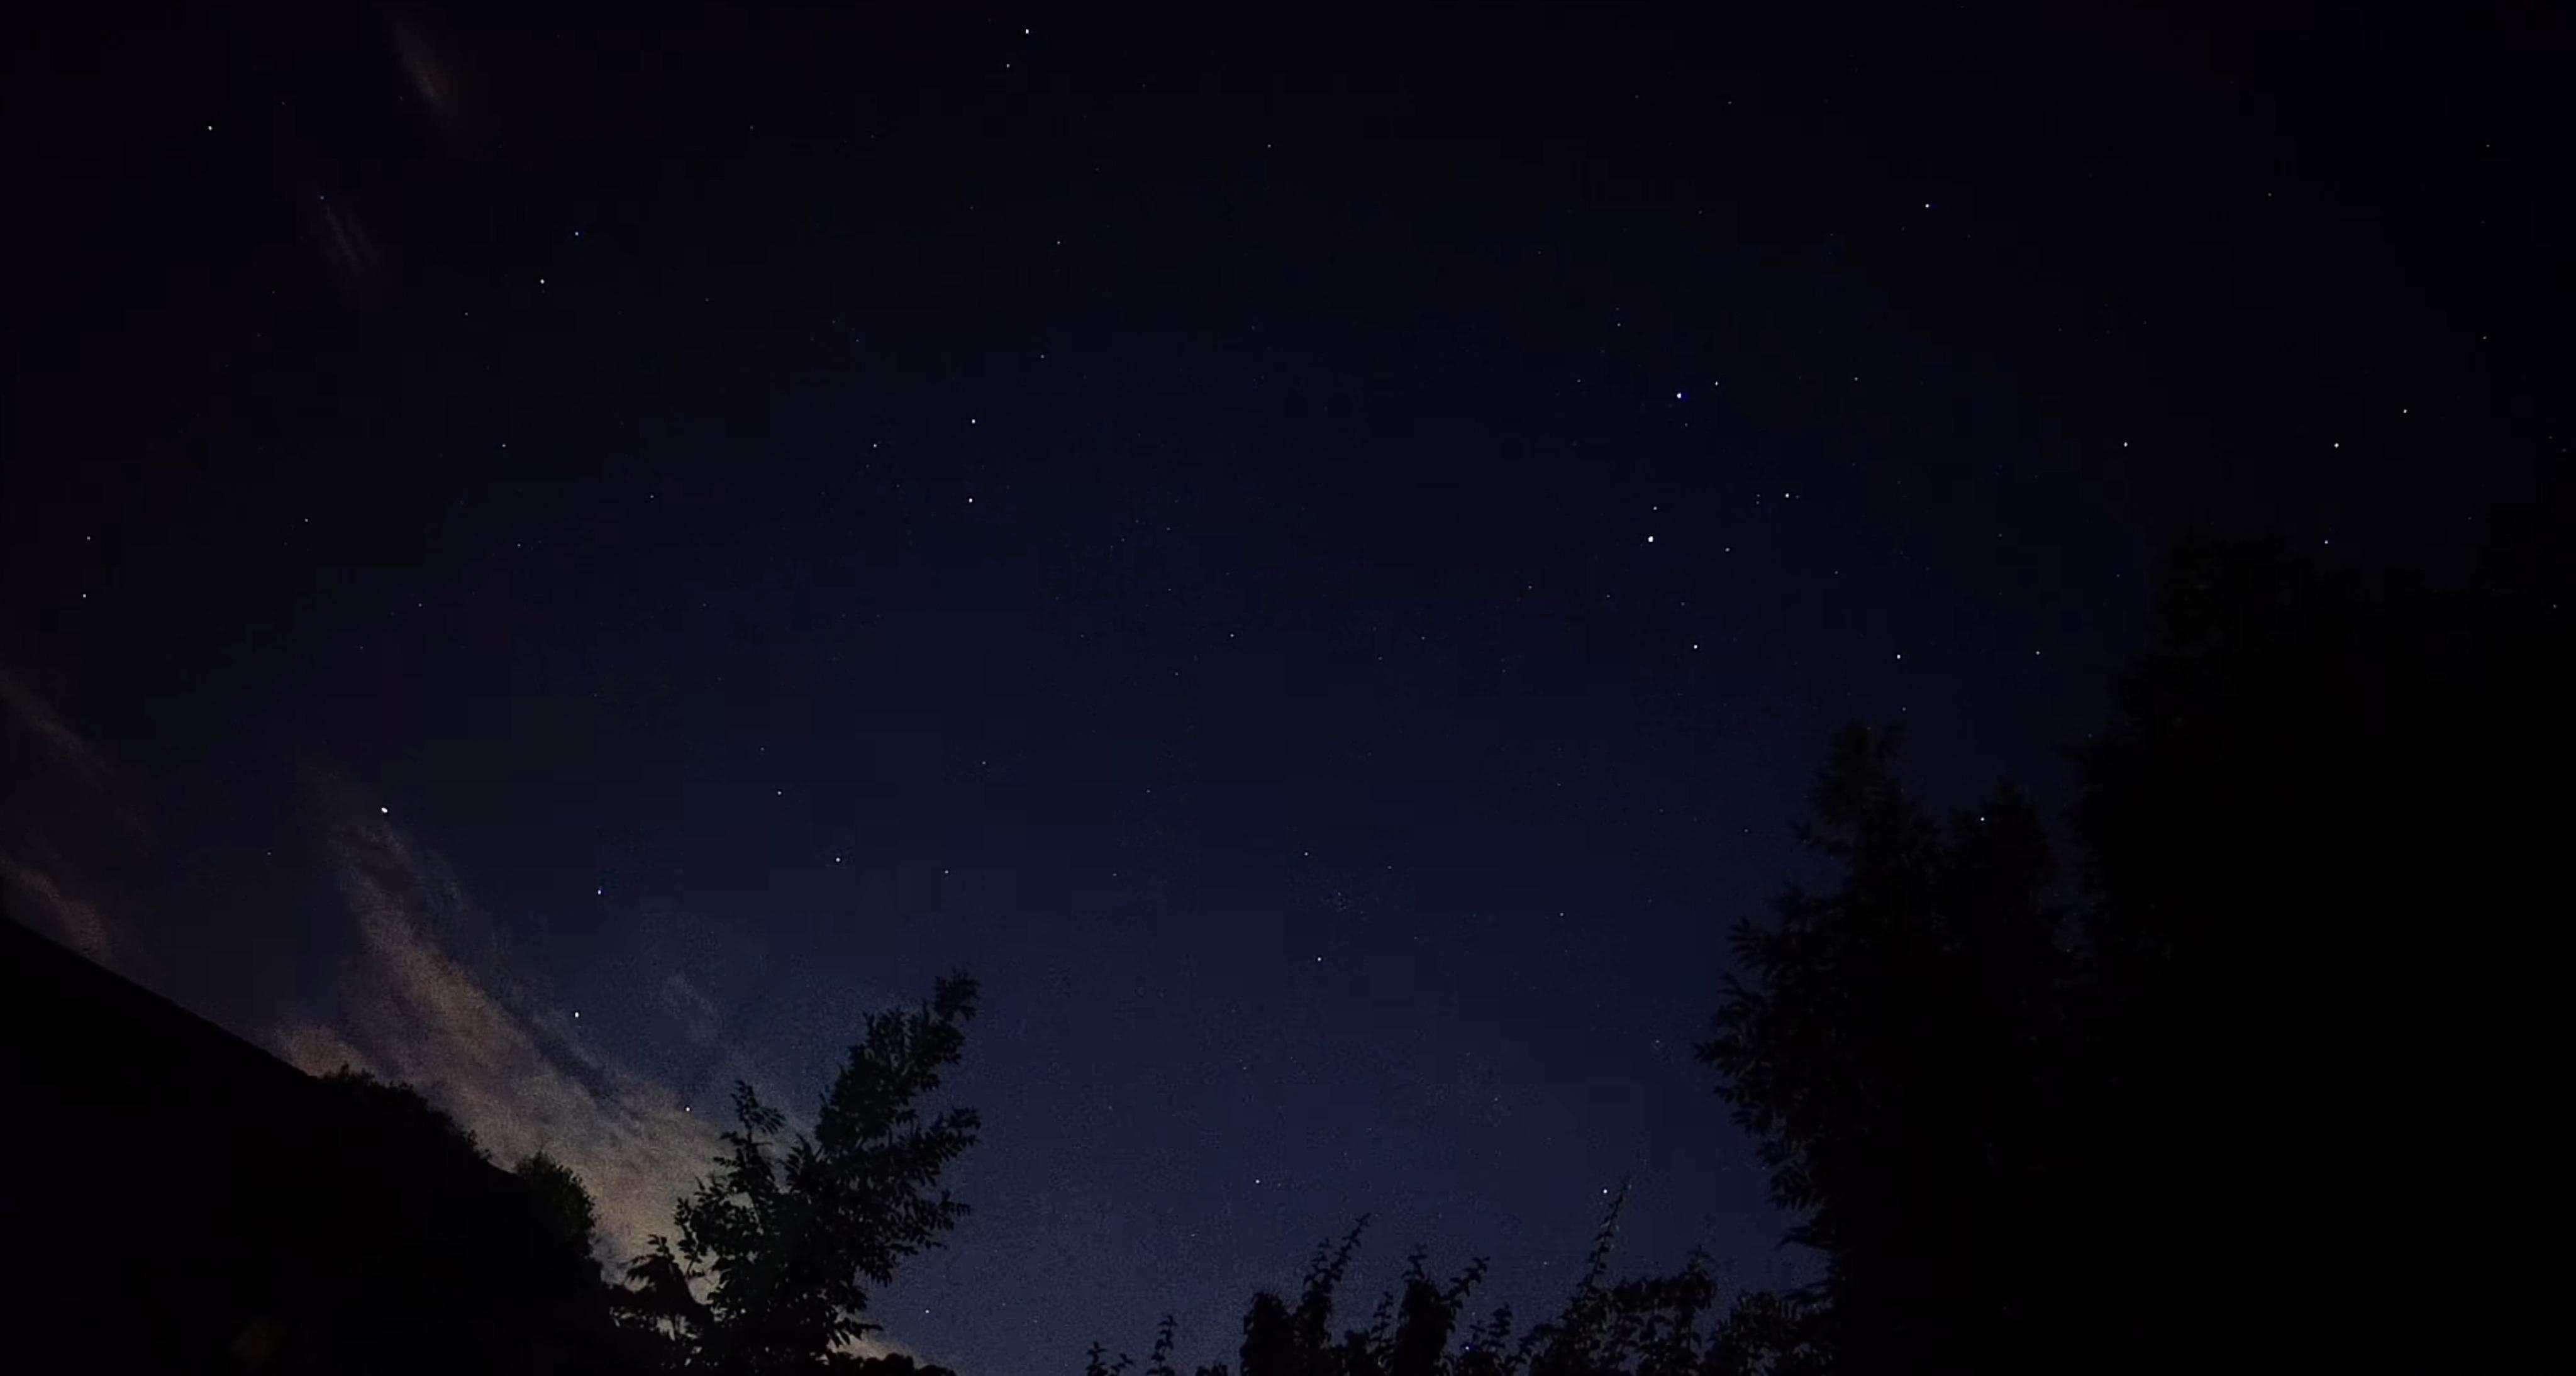Plane: (370, 797, 404, 826)
